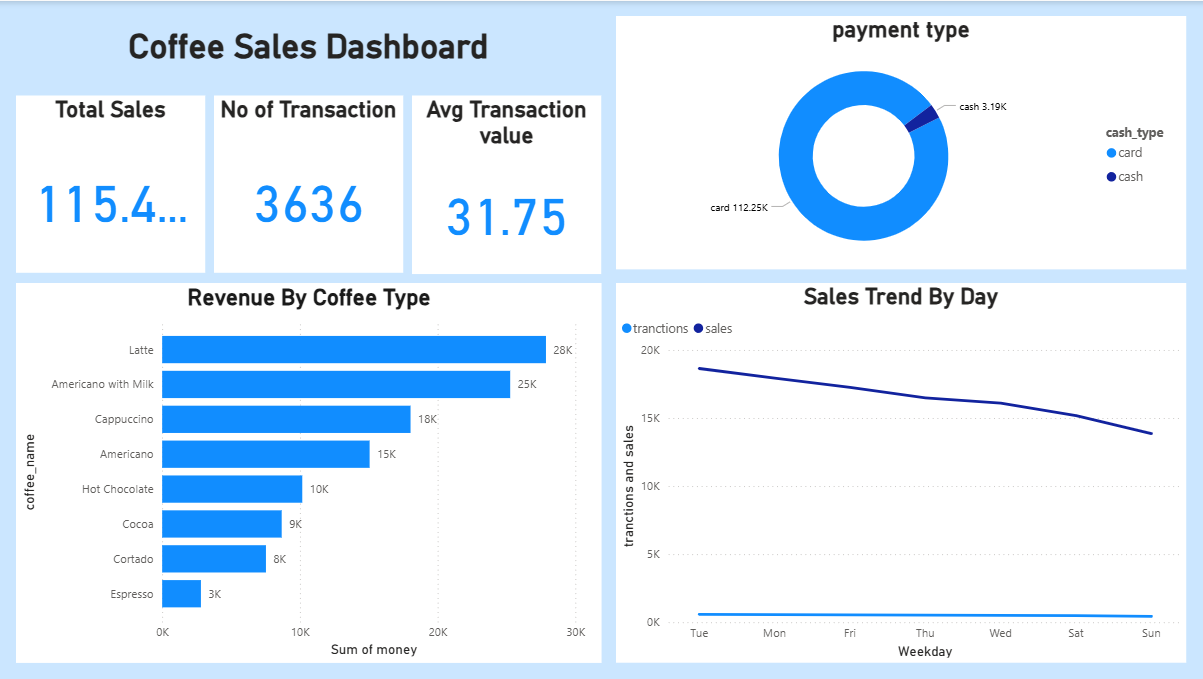

This screenshot's page, from the dashboard's own definition file:
{"tool":"powerbi","page":{"name":"Page 1","canvas":[1280,720],"ordinal":0},"visuals":[{"type":"card","title":"Total Sales","fields":{"Values":["Sum(coffe_sale.money)"]},"box":[19.1,100.2,200.4,187.7],"z":0},{"type":"card","title":"No of Transaction","fields":{"Values":["CountNonNull(coffe_sale.coffee_name)"]},"box":[229,100.2,200.4,187.7],"z":1000},{"type":"donutChart","title":"payment type","fields":{"Category":["coffe_sale.cash_type"],"Y":["Sum(coffe_sale.money)"]},"box":[655.3,15.9,604.4,268.8],"z":2000},{"type":"card","title":"Avg Transaction value","fields":{"Values":["Avg(coffe_sale.money)"]},"box":[439,100.2,200.4,189.3],"z":3000},{"type":"barChart","title":"Revenue By Coffee Type","fields":{"Category":["coffe_sale.coffee_name"],"Y":["Sum(coffe_sale.money)"]},"box":[19.1,299,620.3,402.4],"z":4000},{"type":"lineChart","title":"Sales Trend By Day","fields":{"Category":["coffe_sale.Weekday"],"Y":["coffe_sale.tranctions","coffe_sale.sales"]},"box":[655.3,299,604.4,402.4],"z":5000},{"type":"shape","title":"Coffee Sales Dashboard","box":[19.1,27,620.3,62],"z":6000}]}

Visuals, with their boxes in screenshot pixels (x1, y1, x2, y2), scaled from the page's 1280x720 canvas onto the 1203x679 screenshot:
"Total Sales" card: BBox(18, 94, 206, 272)
"No of Transaction" card: BBox(215, 94, 404, 272)
"payment type" donutChart: BBox(616, 15, 1184, 268)
"Avg Transaction value" card: BBox(413, 94, 601, 273)
"Revenue By Coffee Type" barChart: BBox(18, 282, 601, 661)
"Sales Trend By Day" lineChart: BBox(616, 282, 1184, 661)
"Coffee Sales Dashboard" shape: BBox(18, 25, 601, 84)
